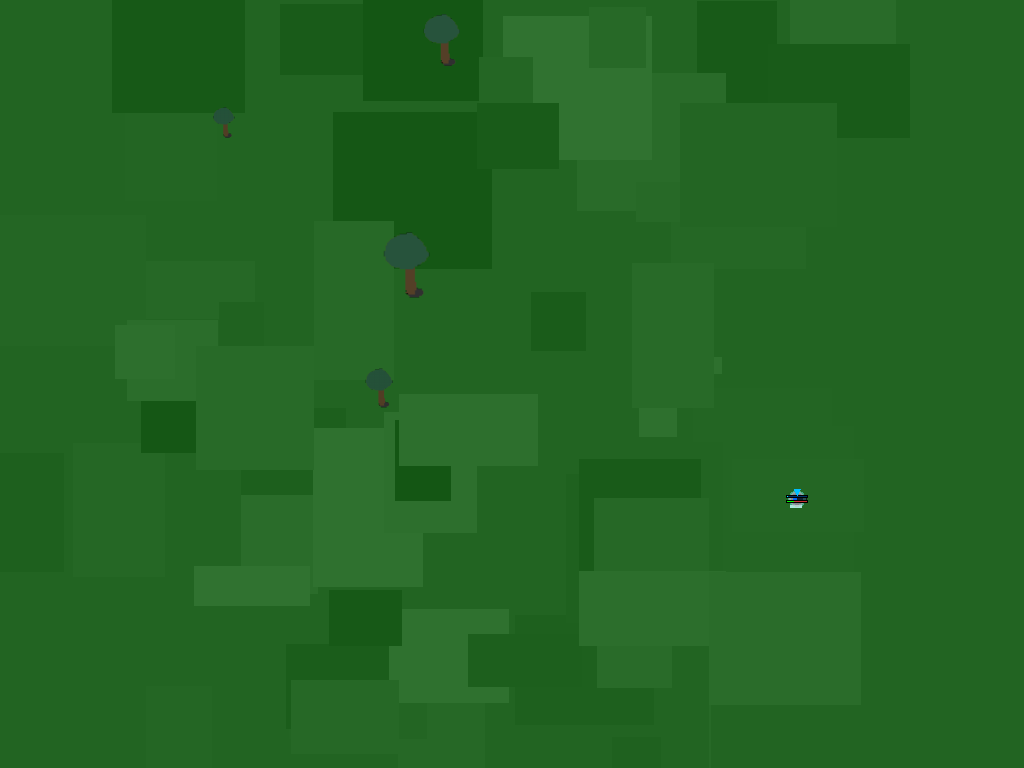Shotgunner: (782, 484, 804, 514)
